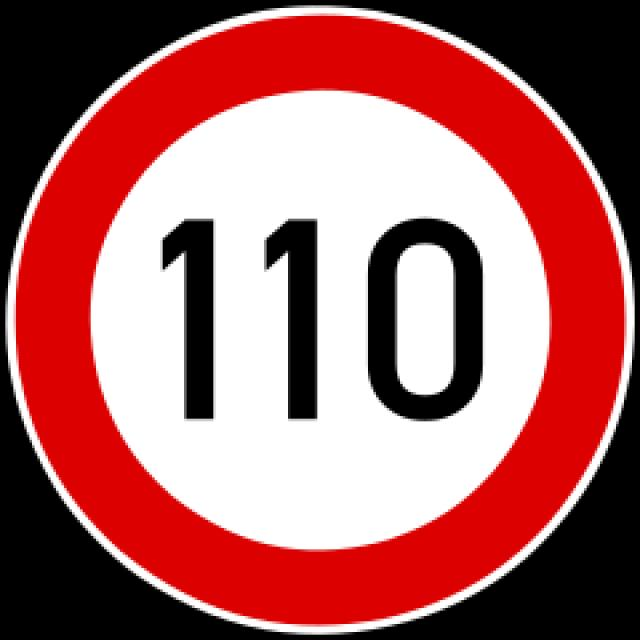Speed Limit -110-: (139, 202, 514, 430)
